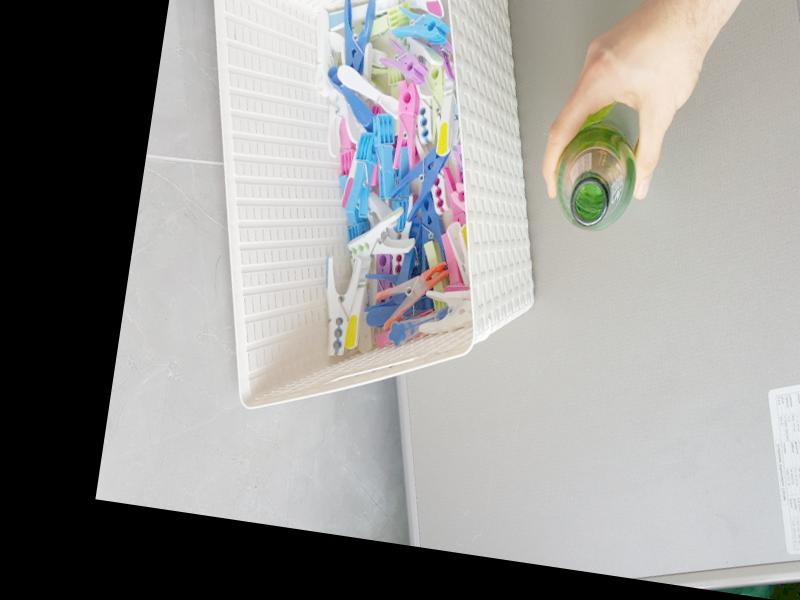Beer: (549, 114, 644, 236)
